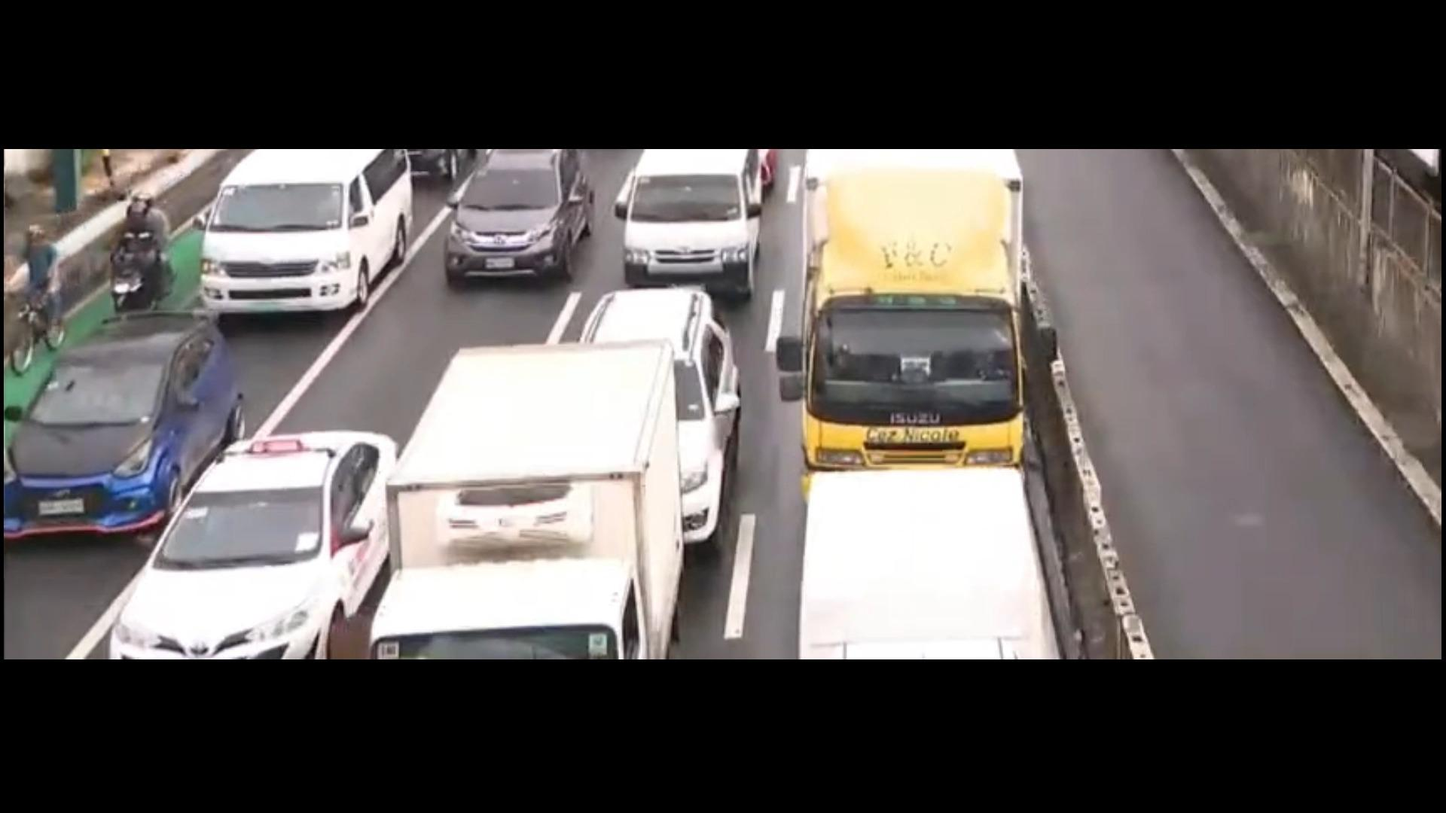Bicycle: (0, 220, 77, 363)
Motorcycle: (92, 192, 181, 324)
SUV: (559, 286, 738, 544), (435, 156, 589, 284)
Sedan: (104, 435, 401, 655), (4, 314, 245, 542)
Truck: (362, 346, 678, 655), (795, 152, 1017, 481), (783, 457, 1062, 662)
Van: (194, 149, 418, 326), (616, 145, 761, 311)
